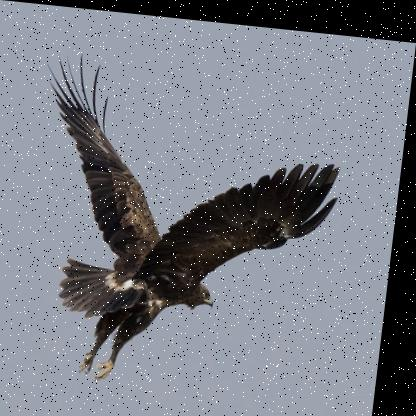Burung: (20, 50, 352, 396)
